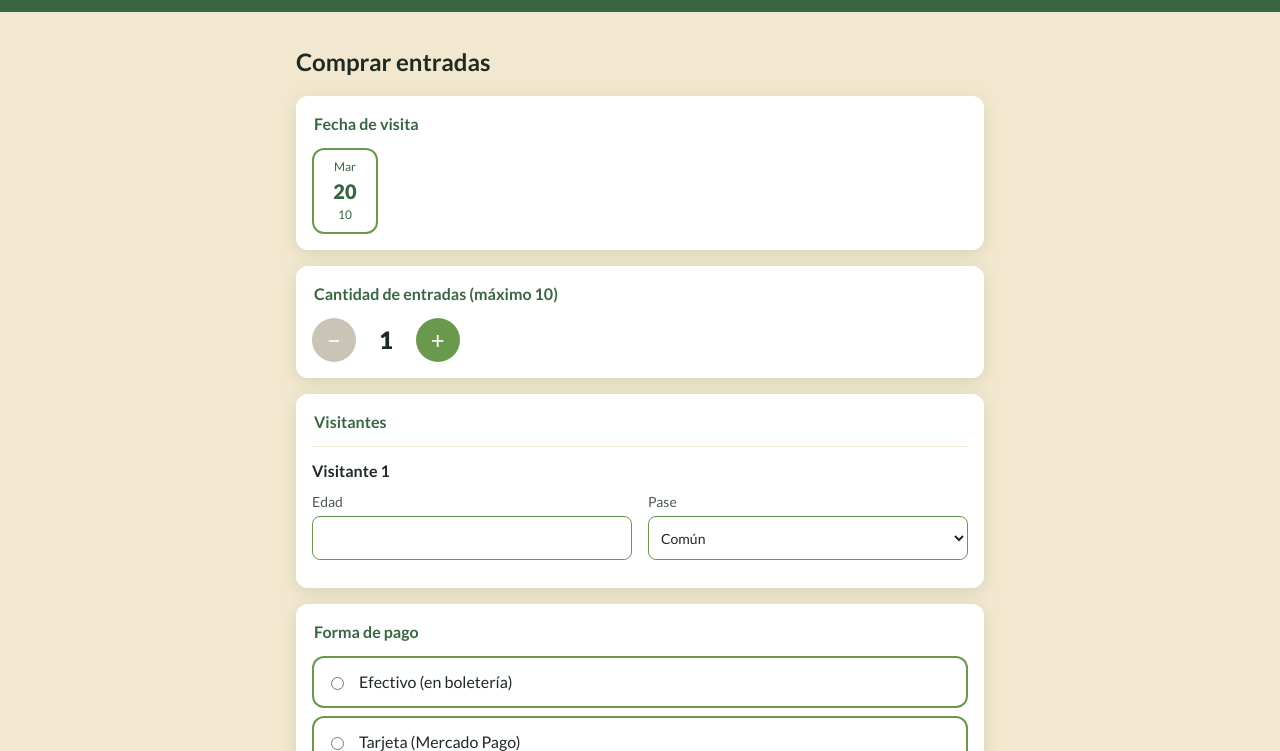
Test: Flujo de compra de entradas › muestra el error devuelto por el servidor y permanece en el formulario
Click the button with aria-label "20/10/2026": (345, 191) [312,148,378,234]
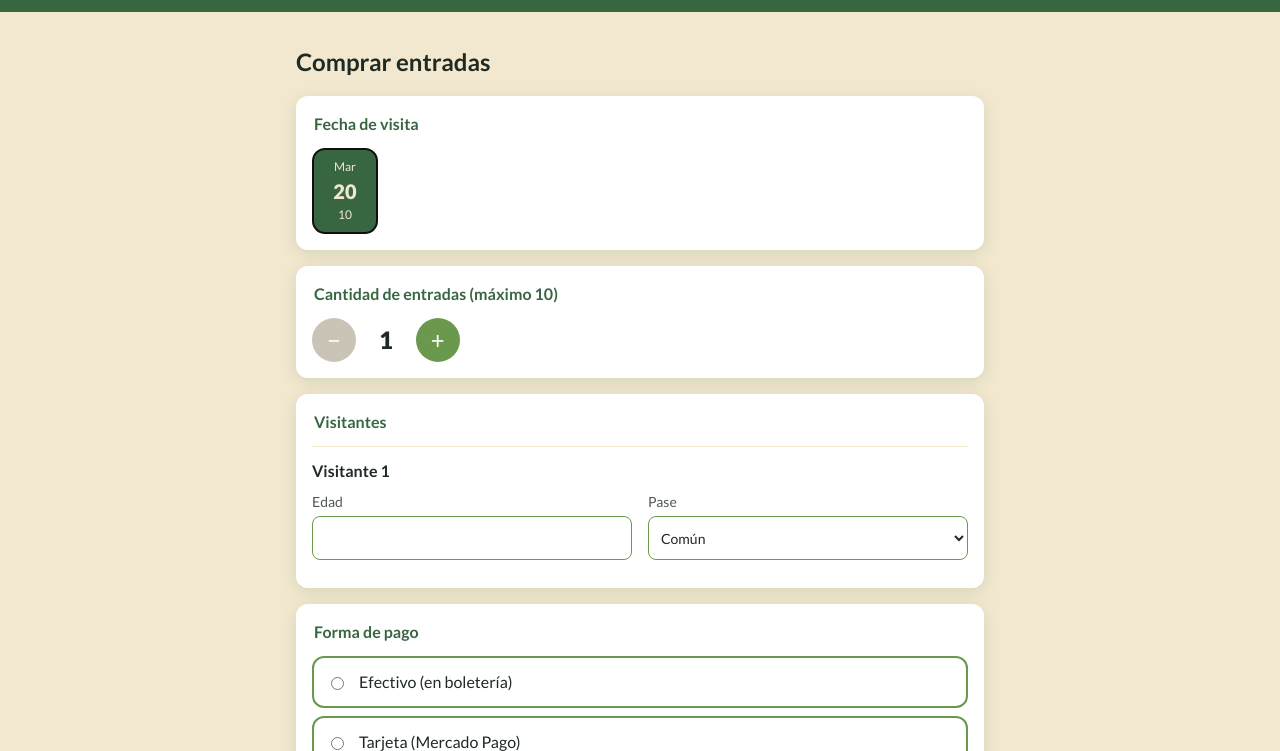
Click the button named "Agregar una entrada": (438, 340) [416,318,460,362]
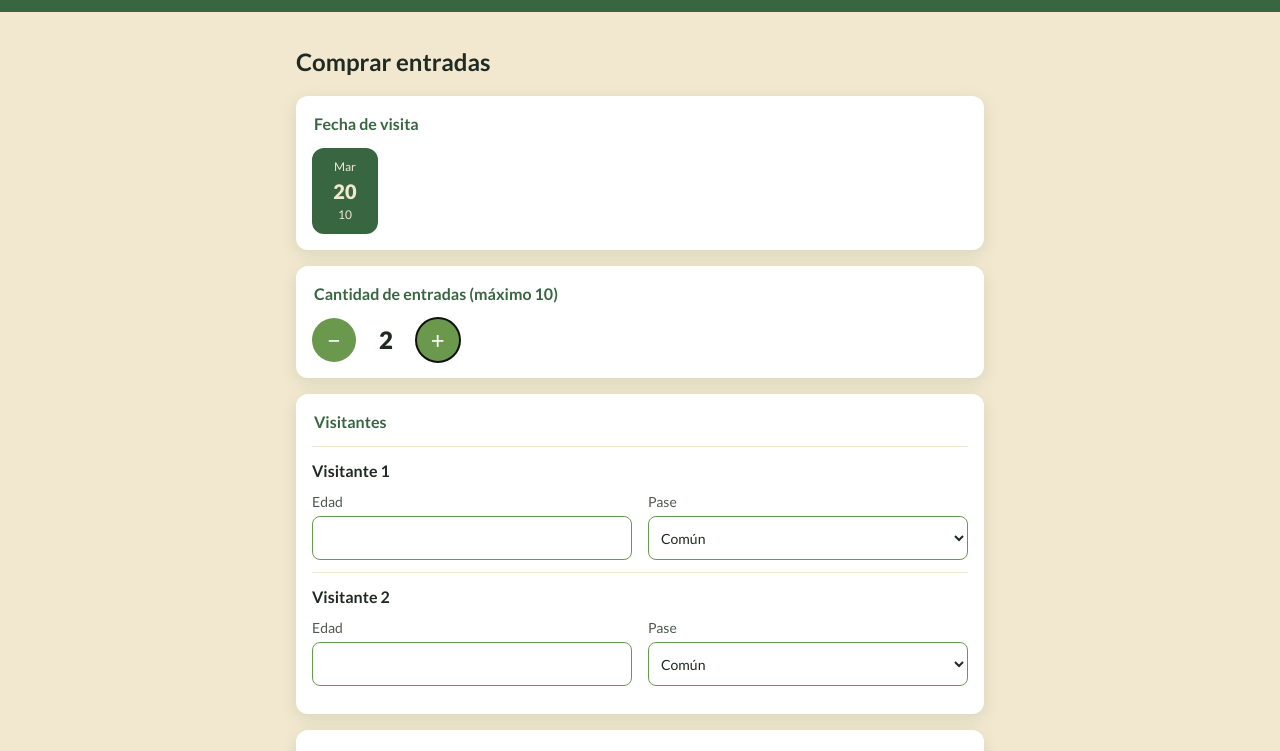
In the number field named "Edad del visitante 1": (472, 538) [312,516,632,560], type "30"
In the number field named "Edad del visitante 2": (472, 664) [312,642,632,686], type "35"
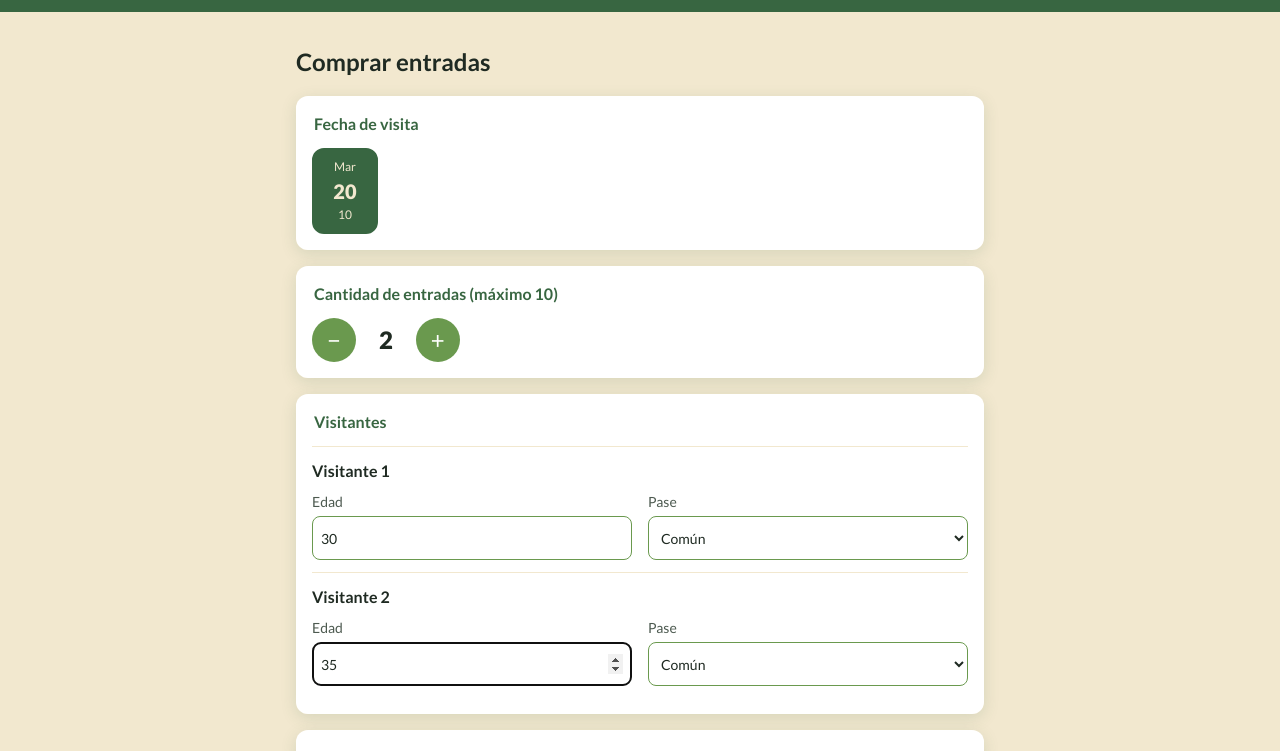
Select "VIP" in the dropdown named "Pase del visitante 2": (808, 664) [648,642,968,686]
(page scrolled)
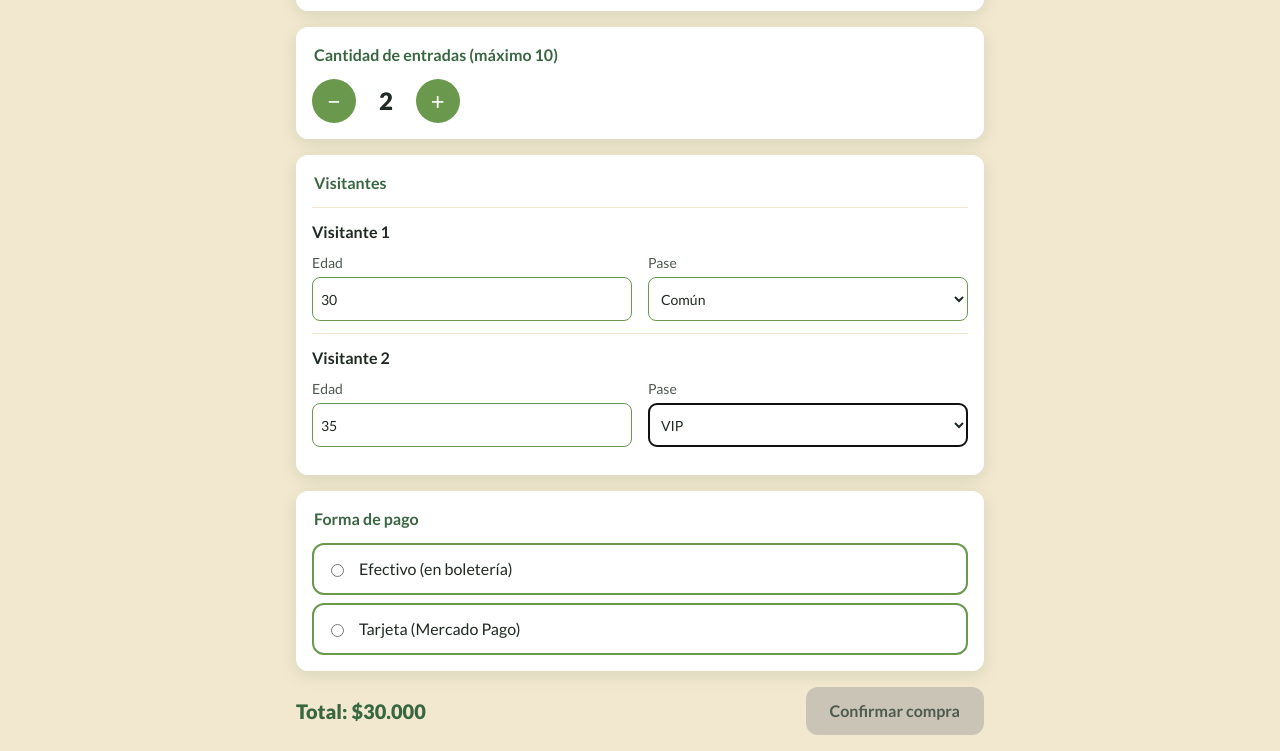
Click the radio button labelled "Efectivo (en boletería)": (338, 571) [331,564,344,577]
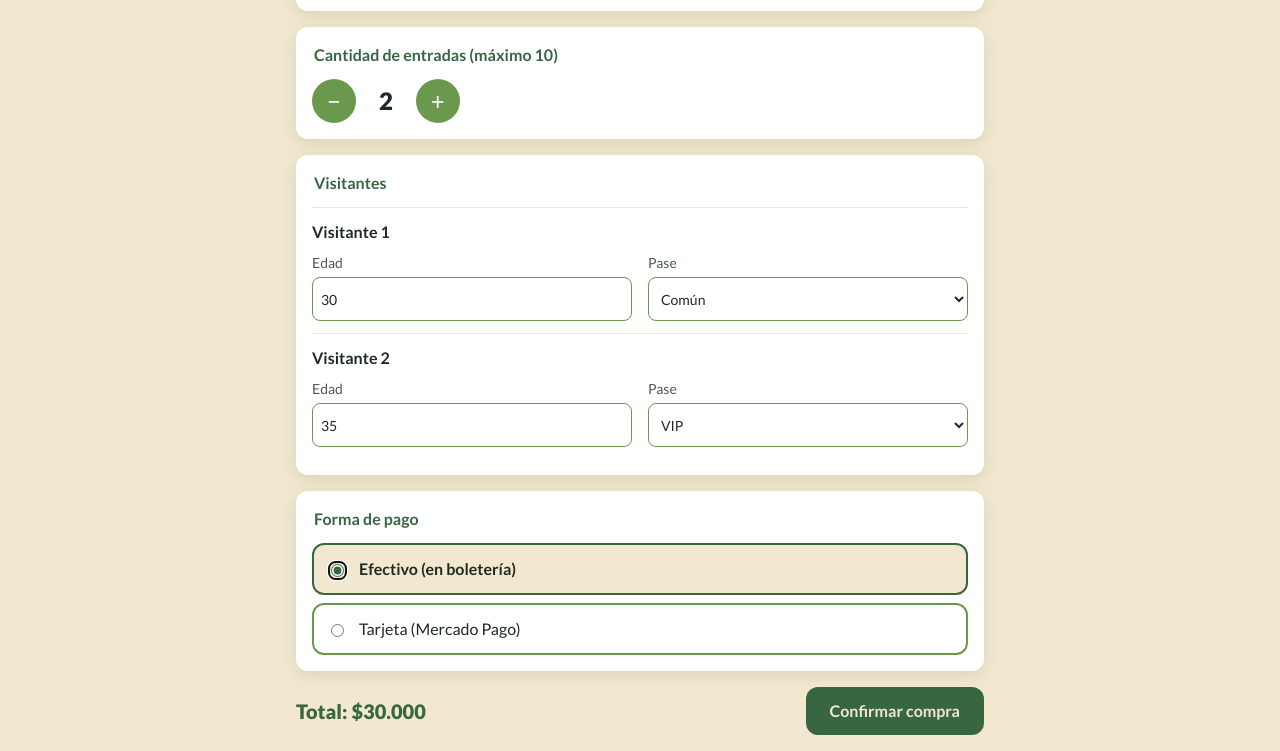
Click the button "Confirmar compra": (895, 711) [806,687,984,735]
(page scrolled)
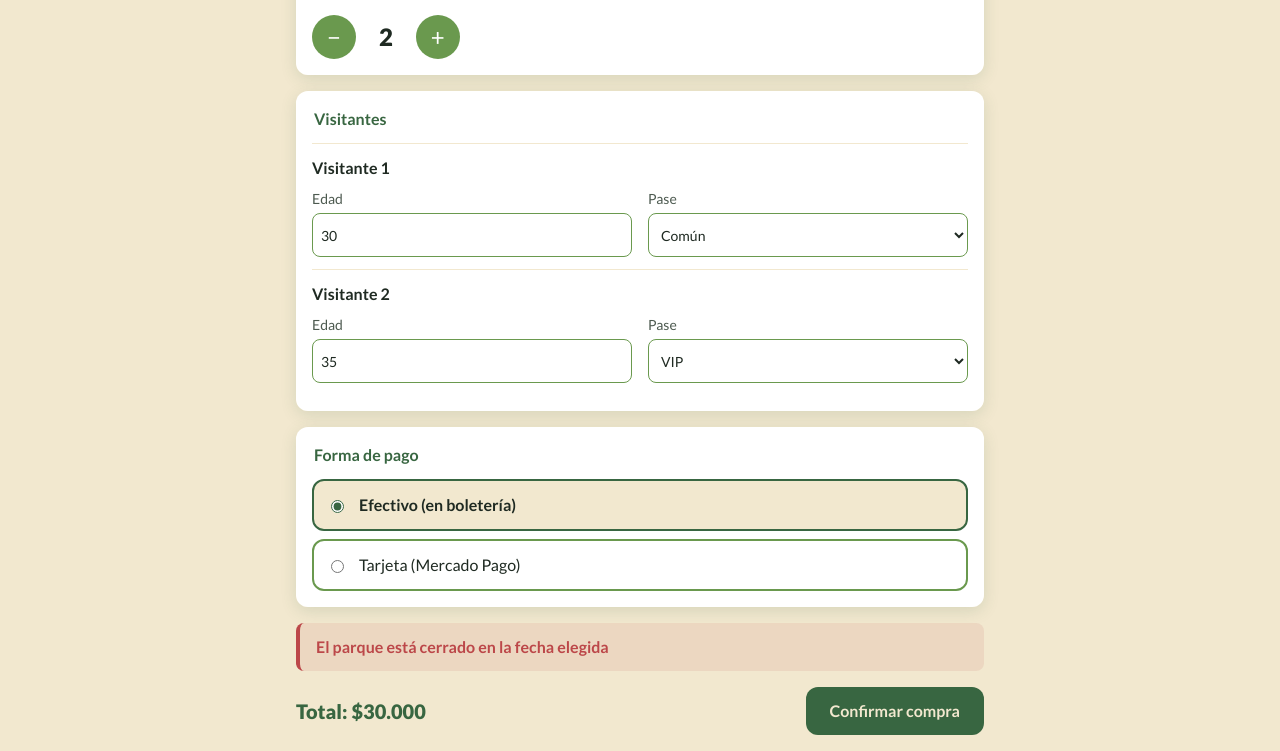
Expected: the message reads "El parque está cerrado en la fecha elegida", [316,637,609,656]
